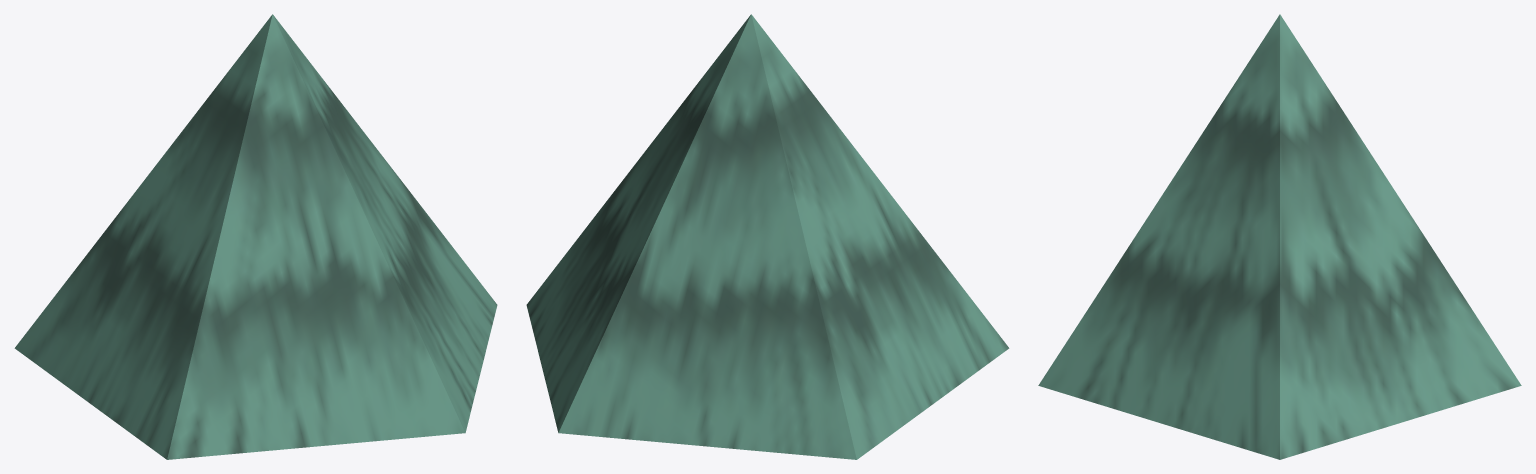
File: env_Coniferous_Part_B.FBX
3 views of the same model, side by side, from view 1: azimuth 30°, elevation 25°; view 2: azimuth 150°, elevation 25°; view 3: azimuth 270°, elevation 25° (orthographic). The views are drawn at different scales.
Visible parts, largest first — view 1: env_Coniferous_Part_B; view 2: env_Coniferous_Part_B; view 3: env_Coniferous_Part_B.
Boxes of the visible parts, <box> form: env_Coniferous_Part_B: <box>14,14,497,459</box>; env_Coniferous_Part_B: <box>526,14,1009,459</box>; env_Coniferous_Part_B: <box>1038,14,1521,459</box>.
Size of the model in its own units: 386 by 314 by 406.
